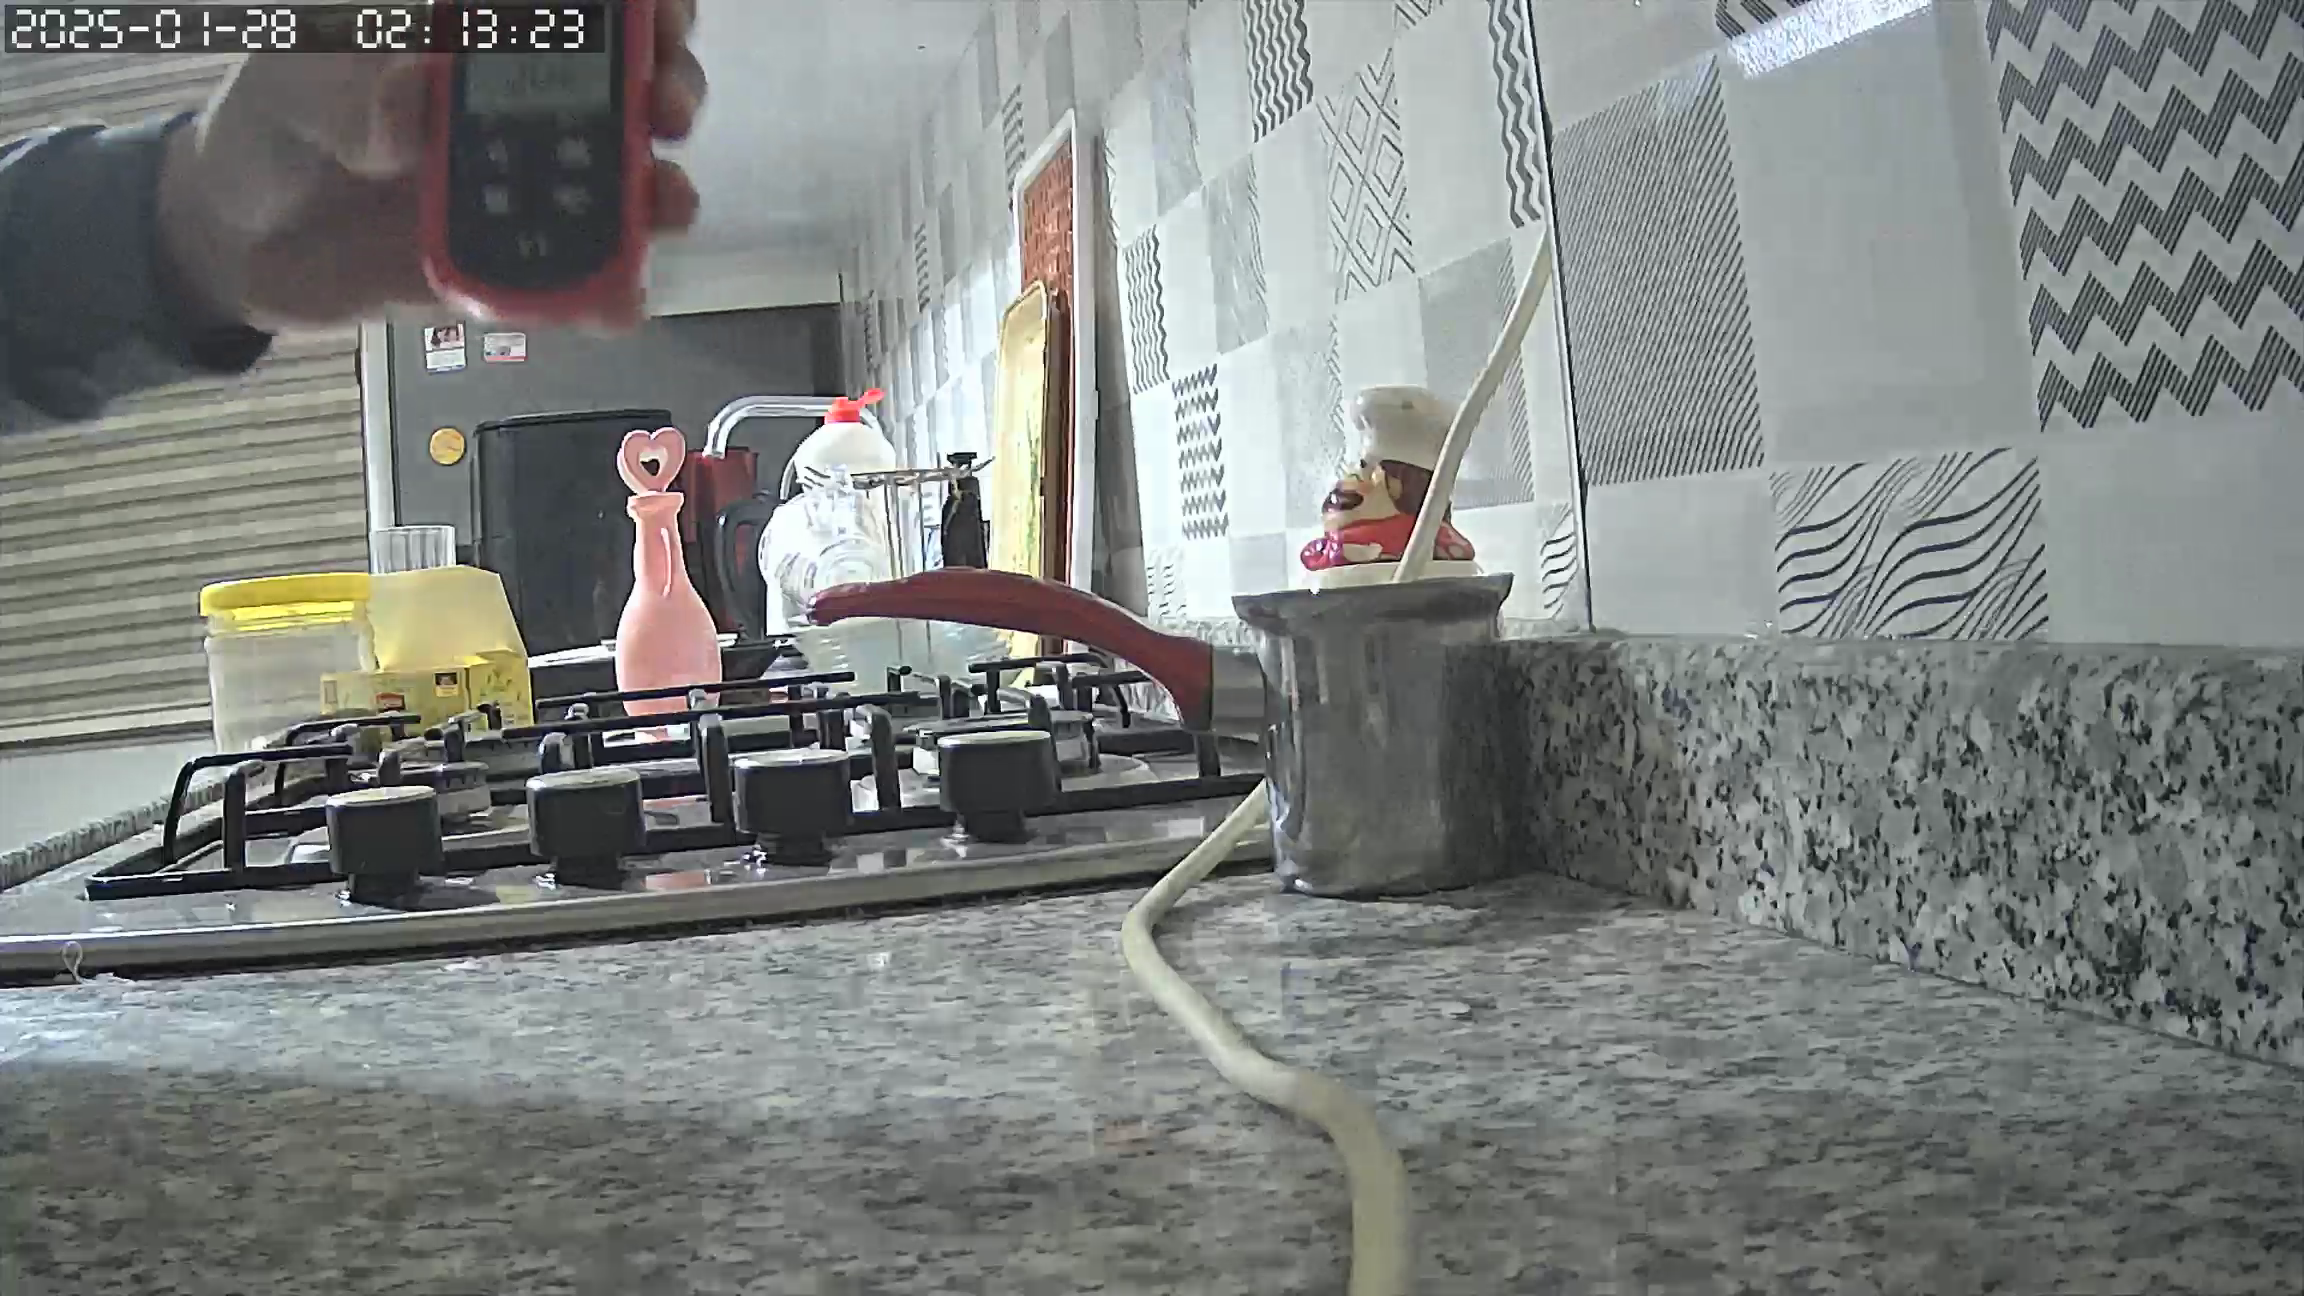screen: (468, 51, 612, 112)
